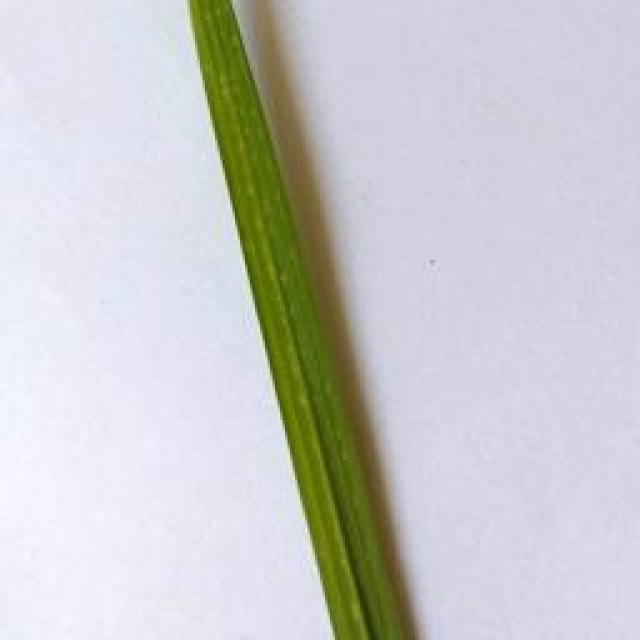Healthy-Plant: (178, 0, 411, 638)
